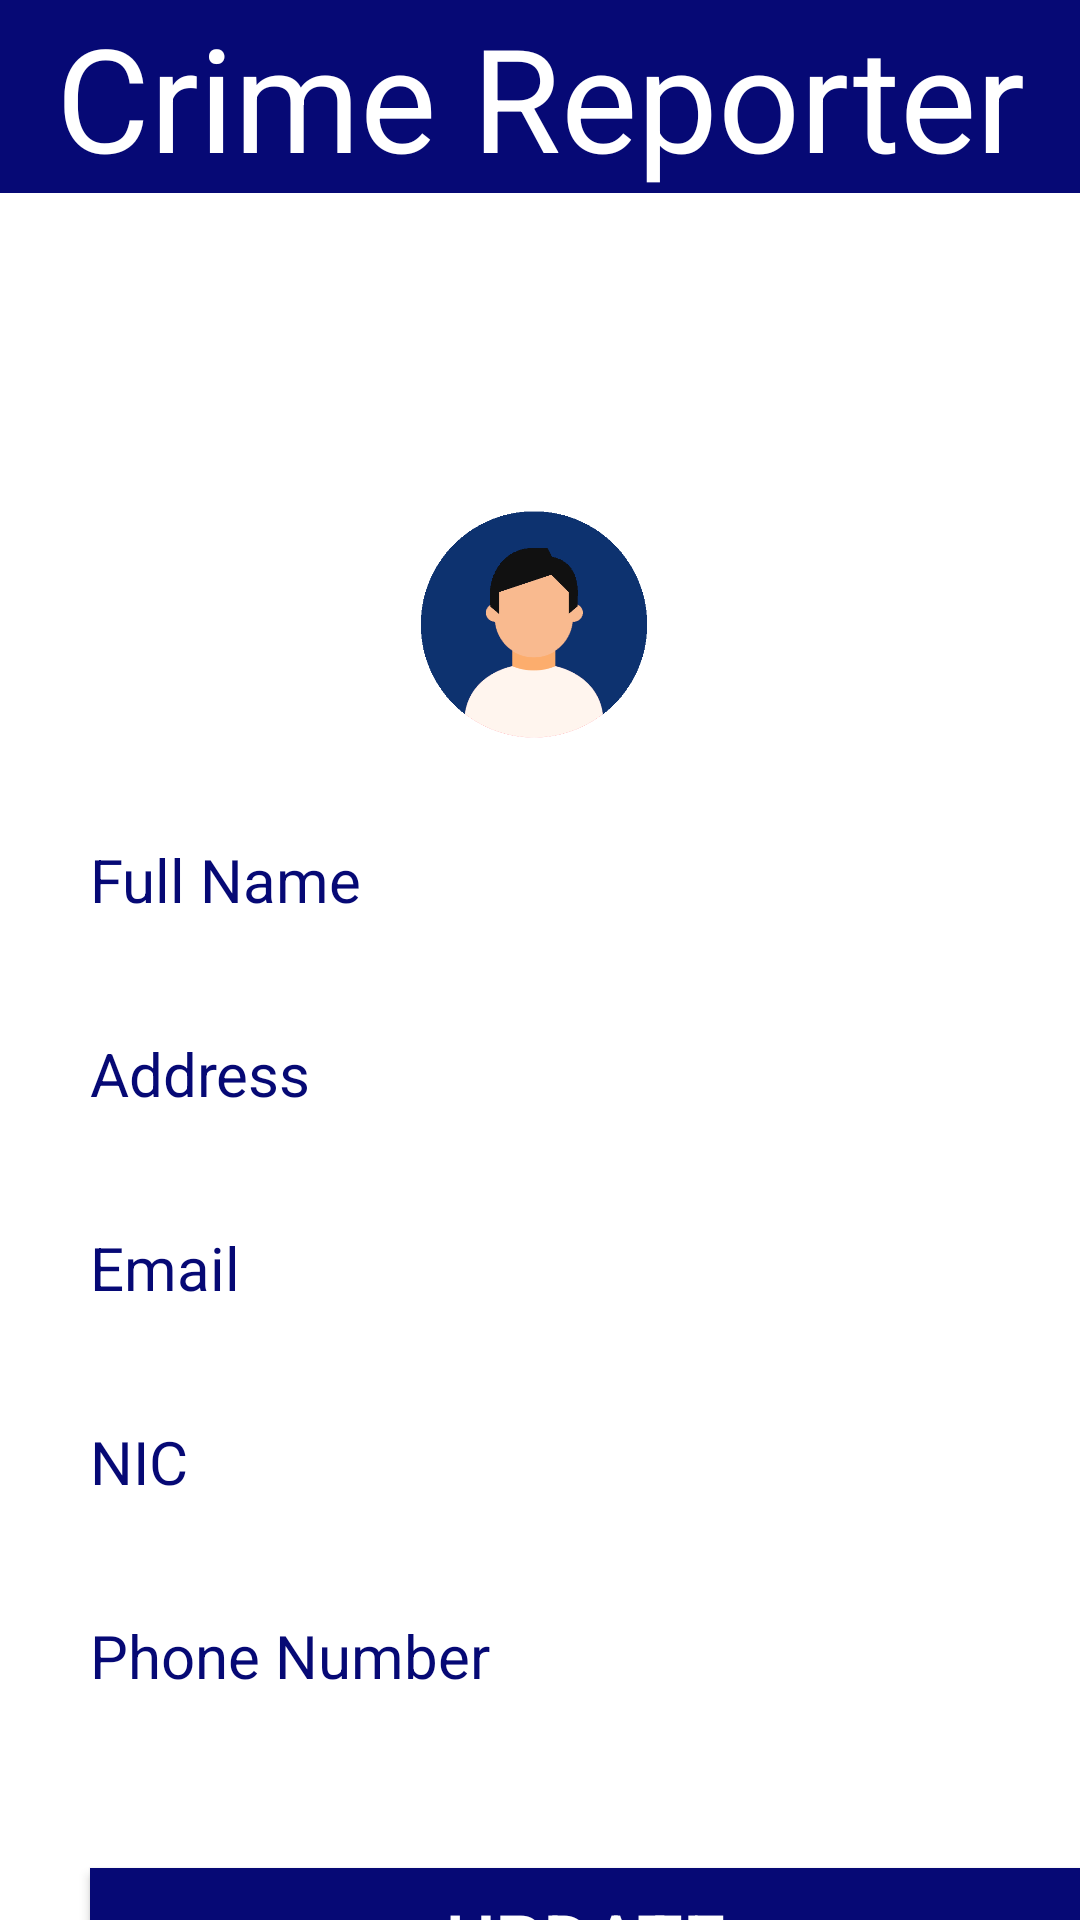

Icon bounding boxes for this 1080*1920 phone screenshot, format (x1,y1,x2,y2):
profile: (421,511,647,737)
